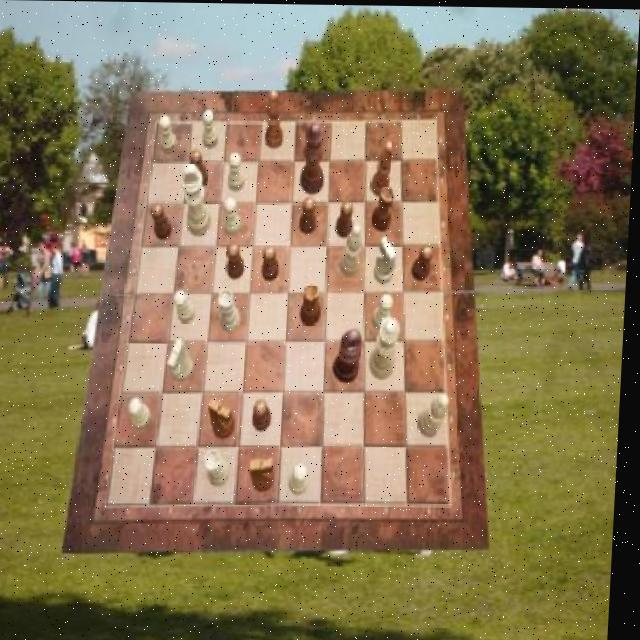bishop: (373, 140, 396, 194), (266, 89, 286, 148)
black-bishop: (336, 327, 368, 382)
black-king: (210, 396, 239, 438), (253, 455, 280, 490)
black-knight: (150, 202, 175, 240), (190, 149, 211, 186), (413, 244, 435, 278), (264, 245, 283, 281), (300, 196, 318, 234), (230, 243, 248, 279), (337, 200, 355, 236), (257, 400, 276, 433)
black-pawn: (302, 122, 328, 195)
black-queen: (373, 184, 397, 231), (303, 282, 326, 325)
black-rook: (421, 393, 453, 437), (342, 223, 365, 277)
white-bishop: (180, 163, 215, 236)
white-king: (170, 337, 199, 380), (377, 235, 400, 283)
white-knight: (175, 290, 199, 324), (159, 116, 180, 154), (132, 398, 156, 431), (374, 294, 396, 330), (225, 198, 244, 236), (228, 152, 246, 191), (202, 110, 220, 149), (293, 462, 313, 495)
white-pawn: (372, 315, 404, 378)
white-queen: (220, 289, 245, 332), (206, 449, 234, 487)
